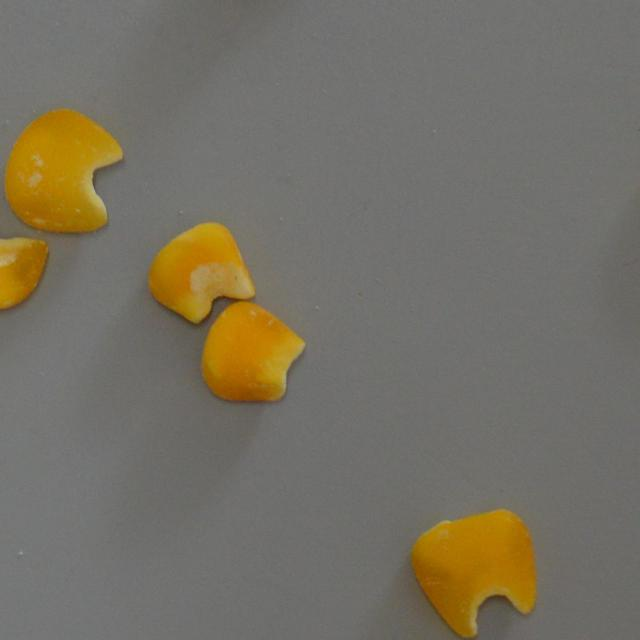no_canjicado: (408, 508, 536, 638), (200, 300, 305, 401)
pelicula: (2, 107, 124, 234), (0, 192, 48, 312)
punto_negro: (146, 222, 256, 324)
